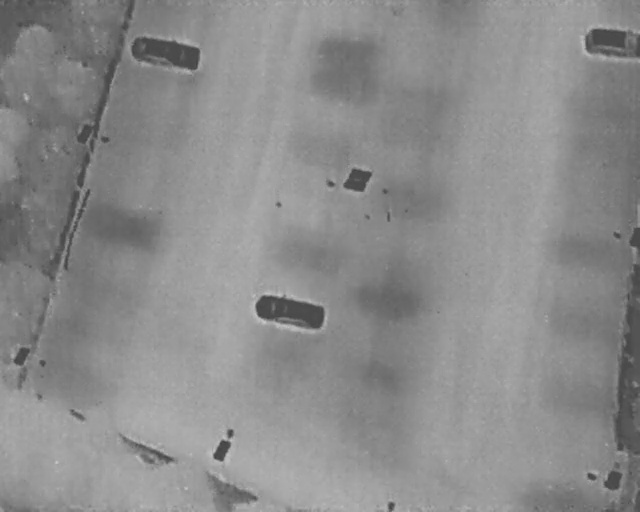Car: (127, 29, 203, 74), (253, 288, 327, 332), (583, 25, 640, 57)
